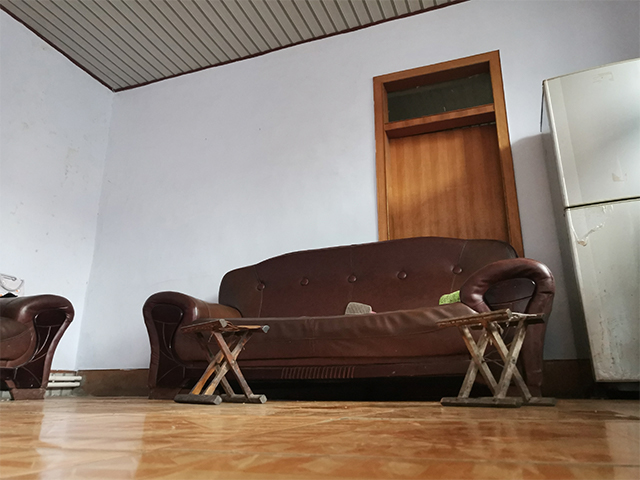sofa: (139, 232, 558, 402)
stool: (438, 305, 560, 409), (172, 317, 271, 407)
